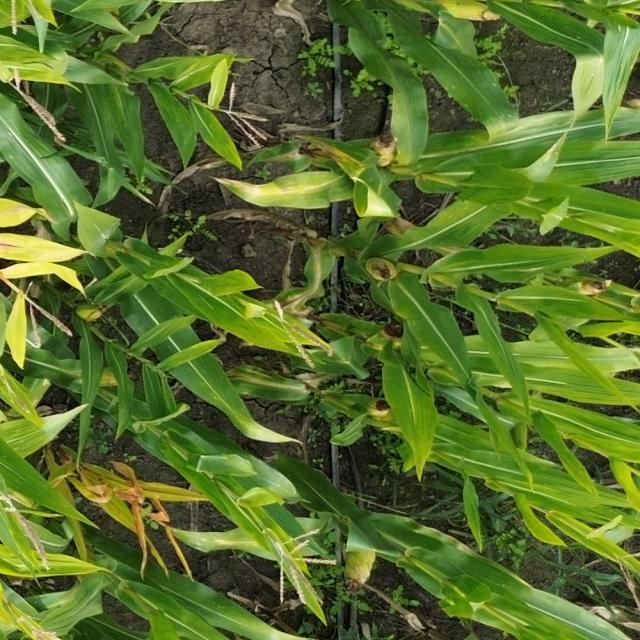gray-leaf-spot: (188, 515, 288, 568)
northern-leaf-blight: (198, 173, 348, 210)
southern-leaf-blight: (86, 95, 155, 169)
